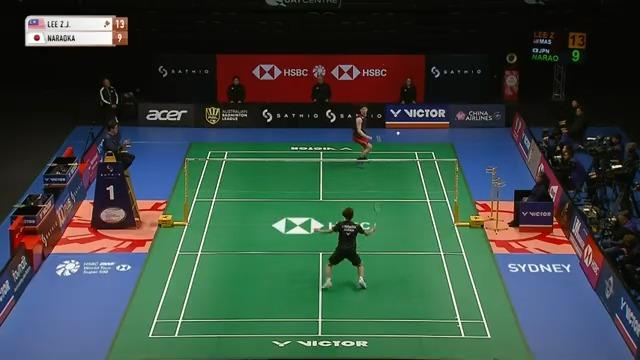Shuttlecock: (393, 127, 402, 139)
